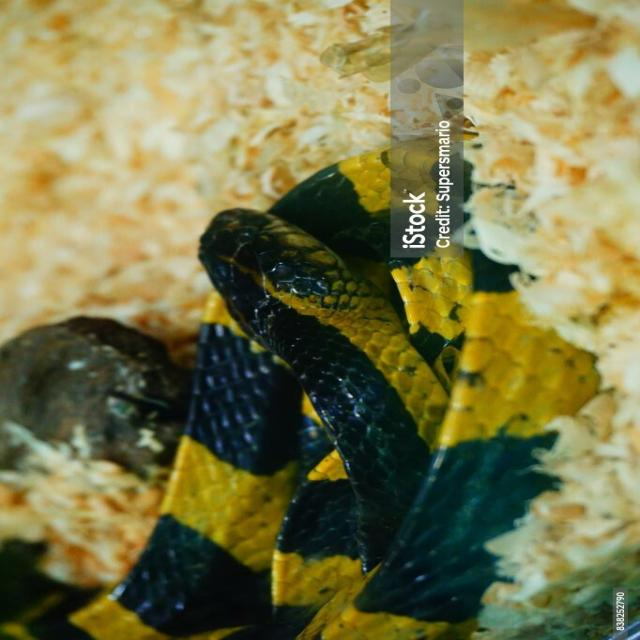Venomous: (184, 204, 457, 465)
